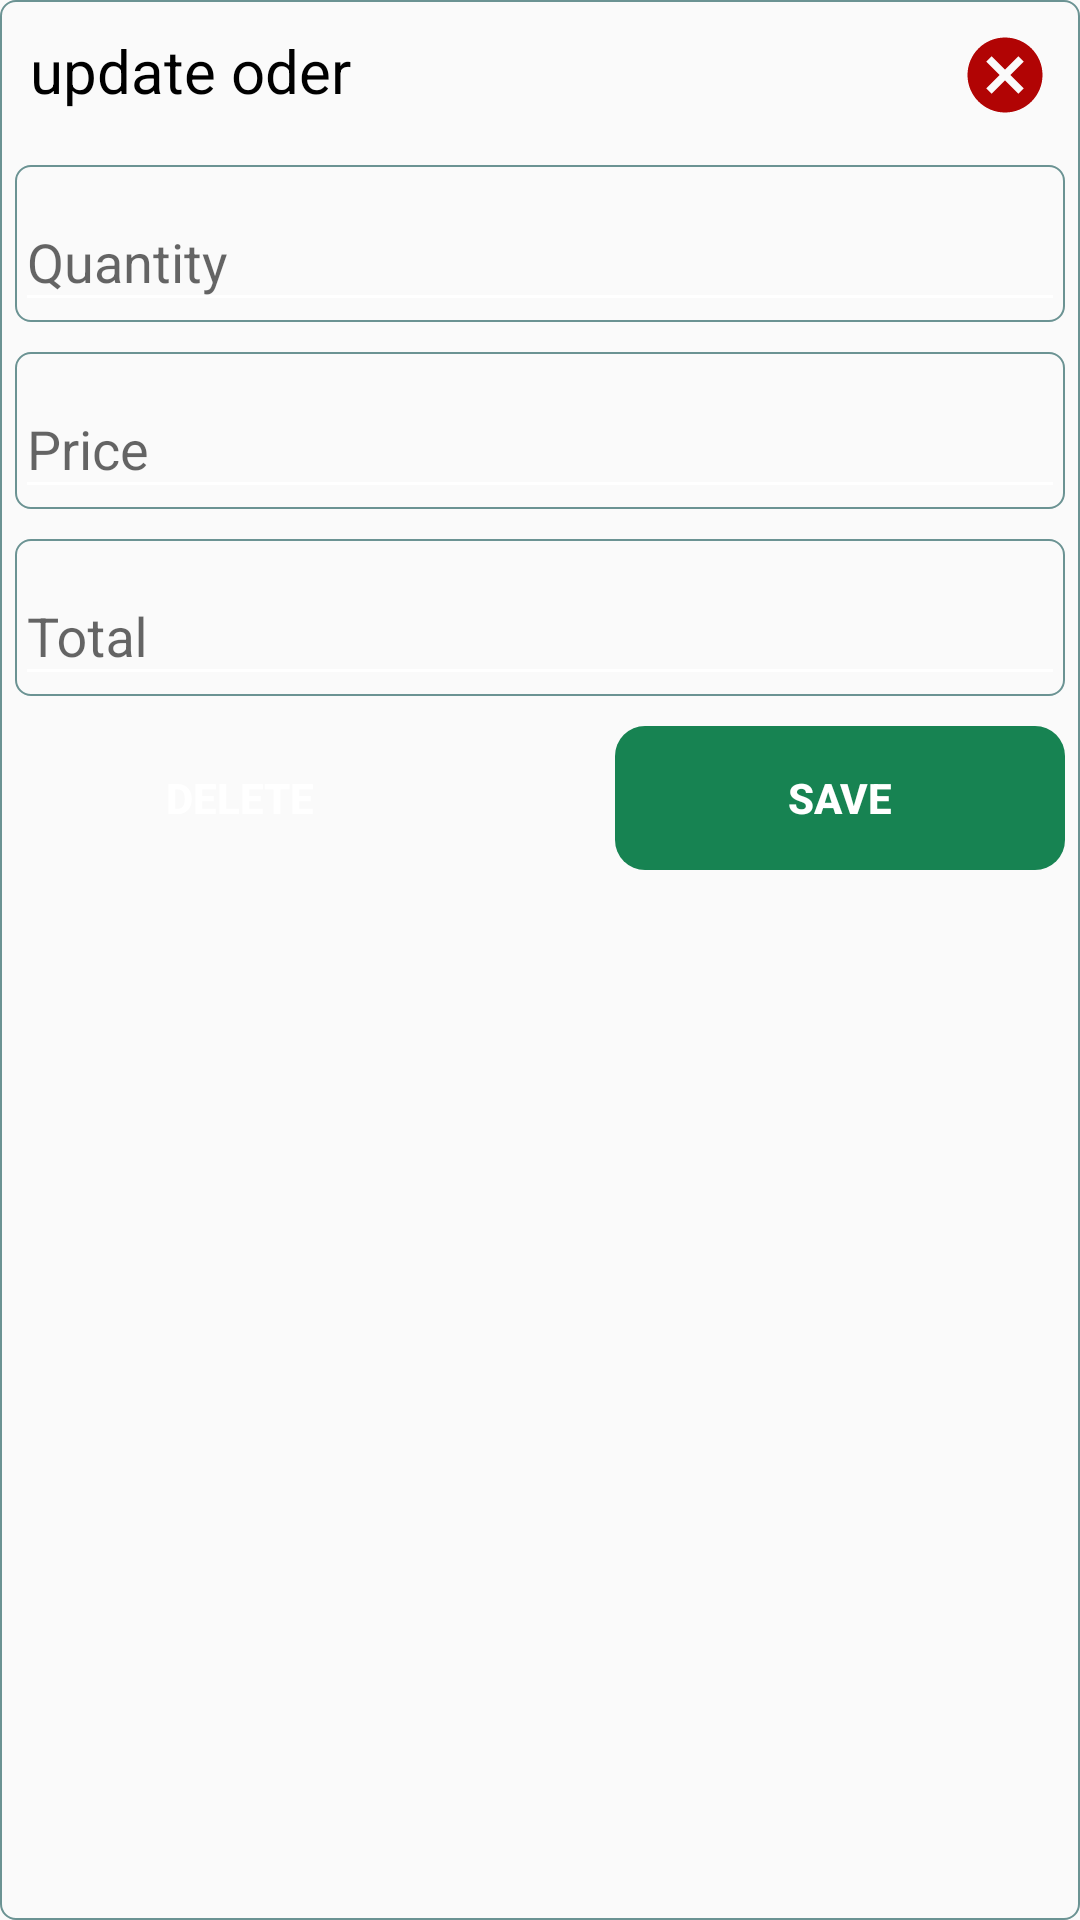

Named icons in this screenshot (1080 × 1920) and their bounding boxes, (x1, y1, x2, y2):
cancel: (967, 37, 1043, 113)
